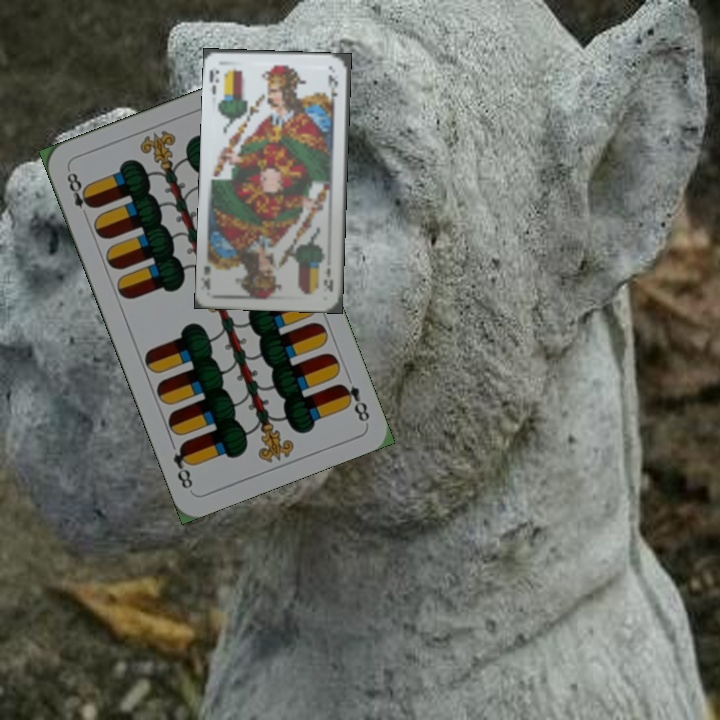E8: (62, 165, 97, 223), (335, 379, 373, 425)
EK: (205, 65, 222, 97), (320, 263, 336, 294)
